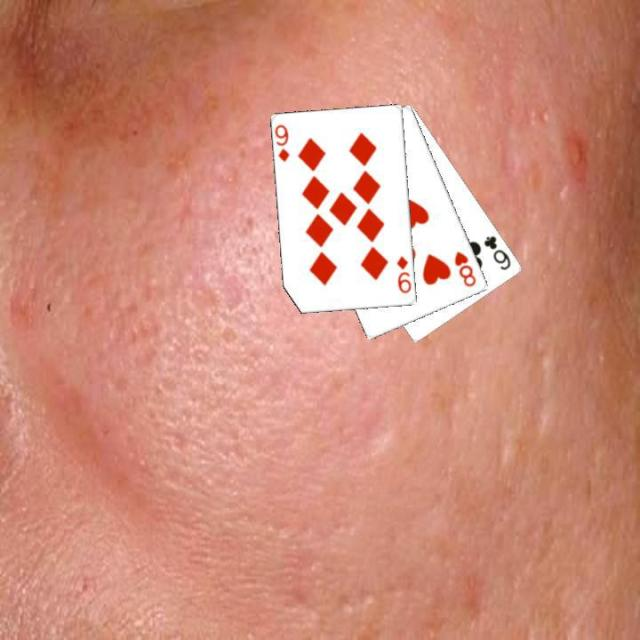6C: (480, 232, 513, 272)
8H: (451, 247, 478, 289)
9D: (393, 253, 412, 295), (273, 121, 291, 163)
